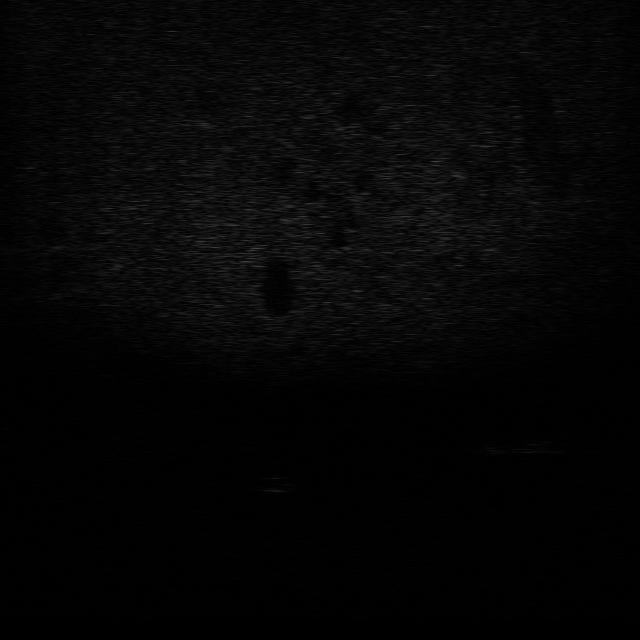ball: (252, 471, 298, 497)
human body: (477, 427, 572, 457)
